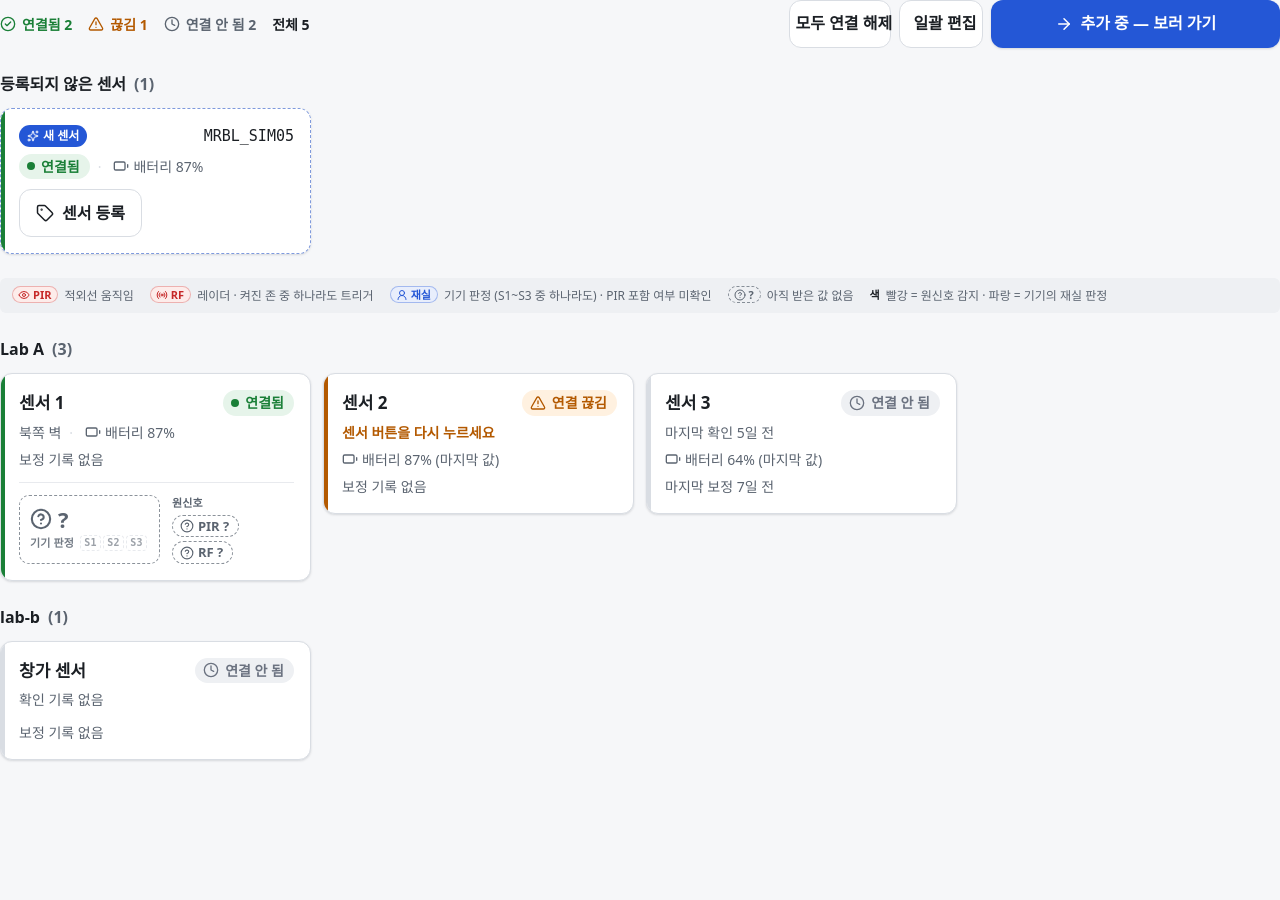
Test case: DashboardScreen › warns that releasing everything also stops a running gather
The image size is (1280, 900).
Click the button "모두 연결 해제". click: (840, 24)
box: [789,0,891,48]
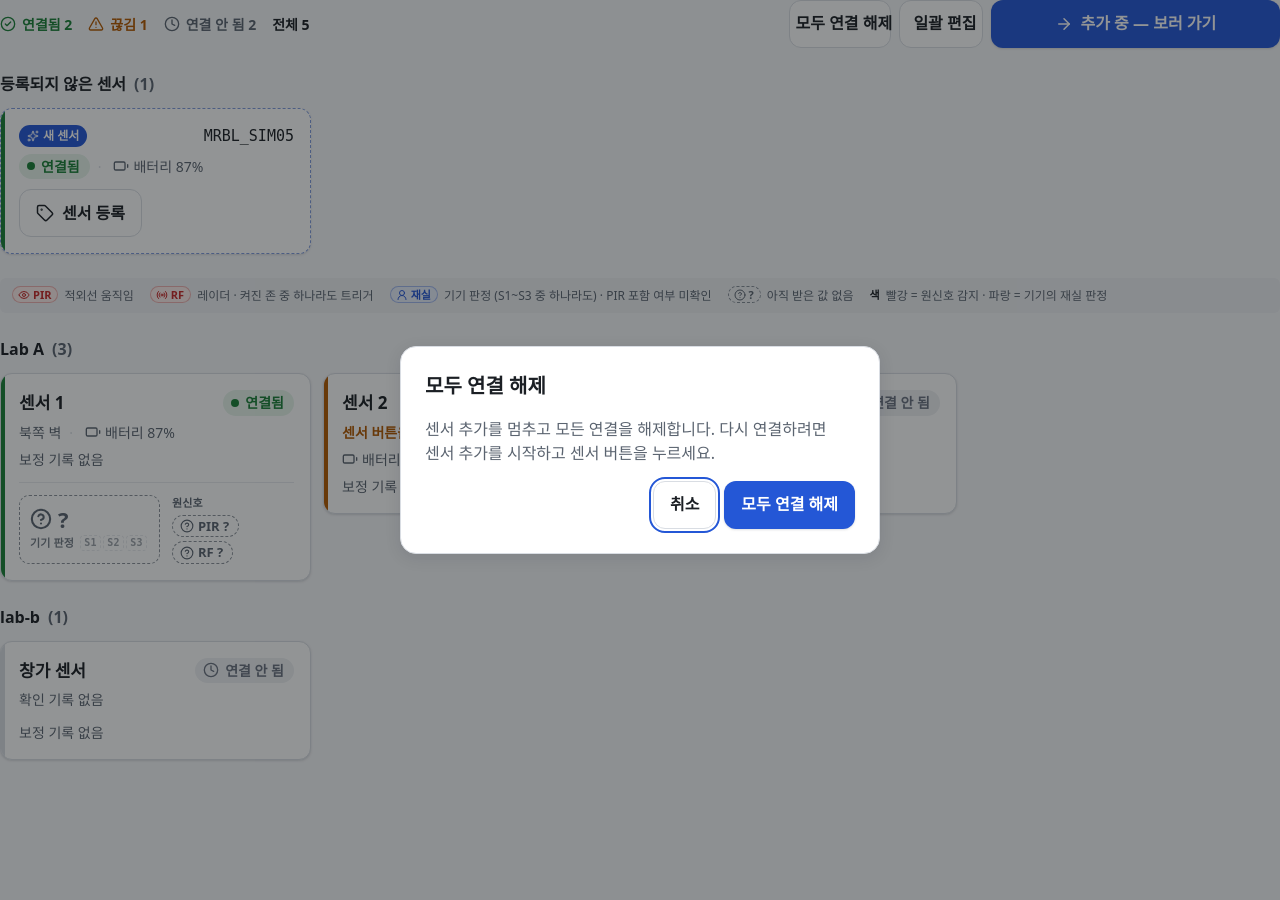
Expected: the text "센서 추가를 멈추고 모든 연결을 해제합니다. 다시 연결하려면 센서 추가를 시작하고 센서 버튼을 누르세요." is shown, [425,417,855,465]
